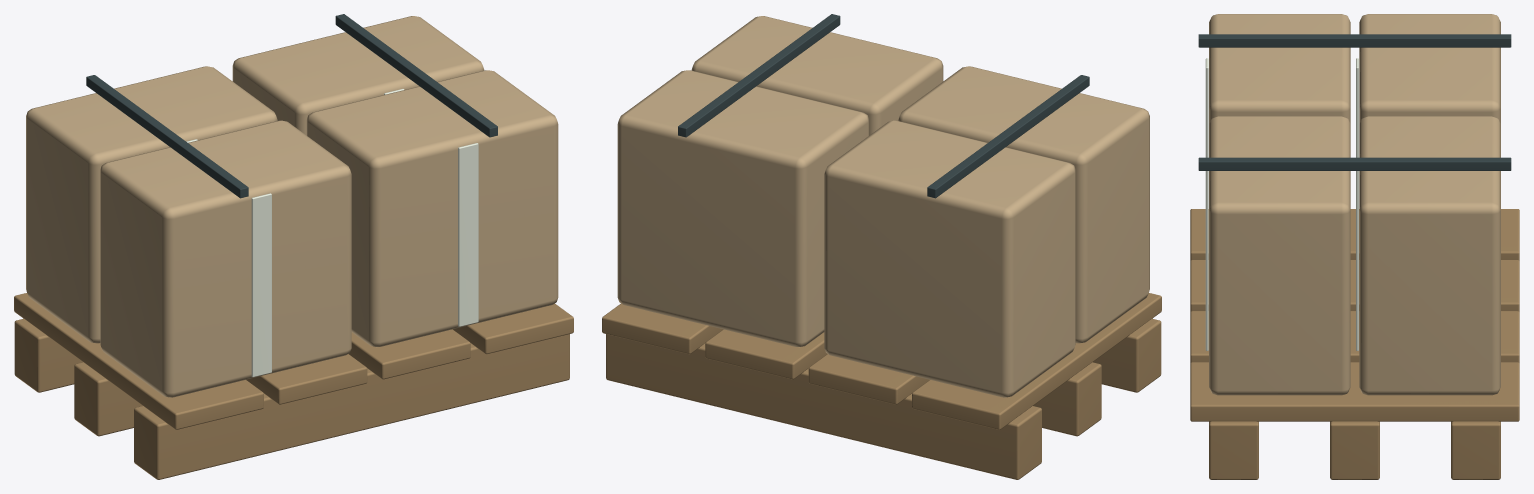
File: pallet-load.glb
3 renders of one model, left to right at view 1: azimuth 30°, elevation 25°; view 2: azimuth 150°, elevation 25°; view 3: azimuth 270°, elevation 25°, orthographic.
Visible parts, largest first — view 1: boxed goods, boxed goods.002, boxed goods.001, pallet bearer, boxed goods.003, pallet deck plank, box tape, box tape.002, pallet deck plank.002, pallet deck plank.001, pallet deck plank.003, pallet bearer.002 (+3 smaller); view 2: boxed goods.001, boxed goods.003, boxed goods, pallet bearer.002, boxed goods.002, pallet deck plank, pallet deck plank.002, pallet deck plank.001, pallet deck plank.003, pallet bearer, pallet bearer.001, shipping band.001 (+1 smaller); view 3: boxed goods.002, boxed goods.003, boxed goods, boxed goods.001, pallet deck plank.003, shipping band, shipping band.001, pallet bearer, pallet bearer.001, pallet bearer.002, pallet deck plank.002, pallet deck plank (+4 smaller).
Boxes of the visible parts, <box> form: boxed goods: <box>100,120,351,397</box>; boxed goods.002: <box>306,70,558,347</box>; boxed goods.001: <box>26,66,277,343</box>; pallet bearer: <box>134,334,569,479</box>; boxed goods.003: <box>232,16,484,135</box>; pallet deck plank: <box>14,293,263,429</box>; box tape: <box>251,193,271,377</box>; box tape.002: <box>458,143,478,326</box>; pallet deck plank.002: <box>348,329,470,379</box>; pallet deck plank.001: <box>246,354,367,404</box>; pallet deck plank.003: <box>453,303,573,354</box>; pallet bearer.002: <box>14,318,82,392</box>; boxed goods.001: <box>824,120,1075,397</box>; boxed goods.003: <box>617,70,869,347</box>; boxed goods: <box>898,66,1149,343</box>; pallet bearer.002: <box>606,334,1041,479</box>; boxed goods.002: <box>691,16,943,135</box>; pallet deck plank: <box>912,293,1161,429</box>; pallet deck plank.002: <box>705,329,827,379</box>; pallet deck plank.001: <box>808,354,929,404</box>; pallet deck plank.003: <box>602,303,722,354</box>; pallet bearer: <box>1093,318,1161,392</box>; pallet bearer.001: <box>1033,362,1101,436</box>; shipping band.001: <box>678,14,840,137</box>; boxed goods.002: <box>1209,116,1350,395</box>; boxed goods.003: <box>1359,116,1500,395</box>; boxed goods: <box>1209,14,1350,123</box>; boxed goods.001: <box>1359,14,1500,123</box>; pallet deck plank.003: <box>1190,362,1519,421</box>; shipping band: <box>1198,34,1511,47</box>; shipping band.001: <box>1198,157,1511,170</box>; pallet bearer: <box>1209,421,1258,479</box>; pallet bearer.001: <box>1330,421,1379,479</box>; pallet bearer.002: <box>1451,421,1500,479</box>; pallet deck plank.002: <box>1190,311,1519,363</box>; pallet deck plank: <box>1190,209,1519,260</box>.
Bounding box in the file's own units: 1.16 × 0.7425 × 0.79.
